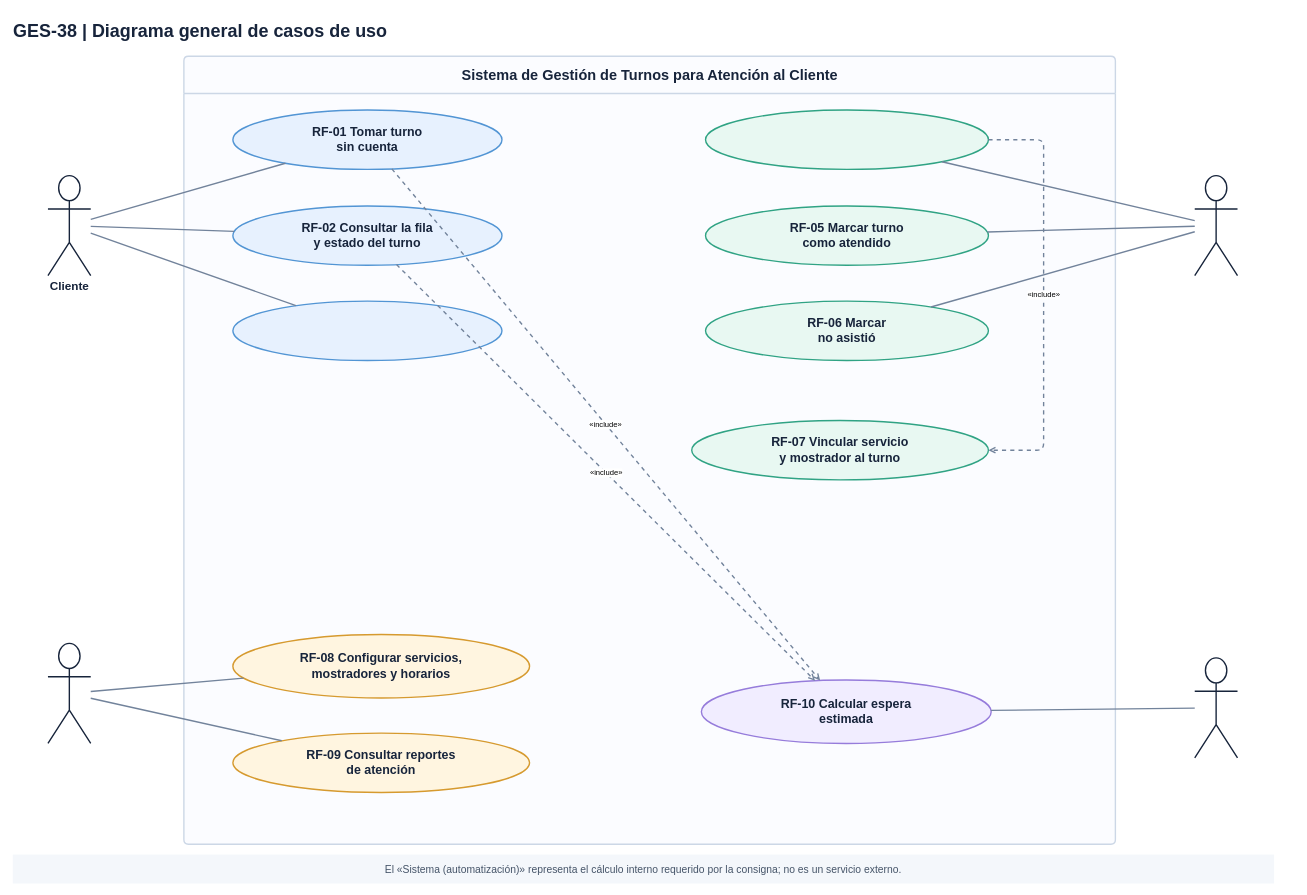
Some shapes in this 1307 by 895 pixel diagram are drawn without their labels. Here are the shapes that lost their labels. From the top down, the box of each, then its label:
(704, 109, 989, 170): RF-04 Llamar al siguiente turno
(1194, 175, 1238, 276): Recepcionista
(232, 300, 502, 361): RF-03 Cancelar turno en espera
(47, 642, 91, 744): Administrador
(1194, 657, 1238, 758): Sistema (automatización)
